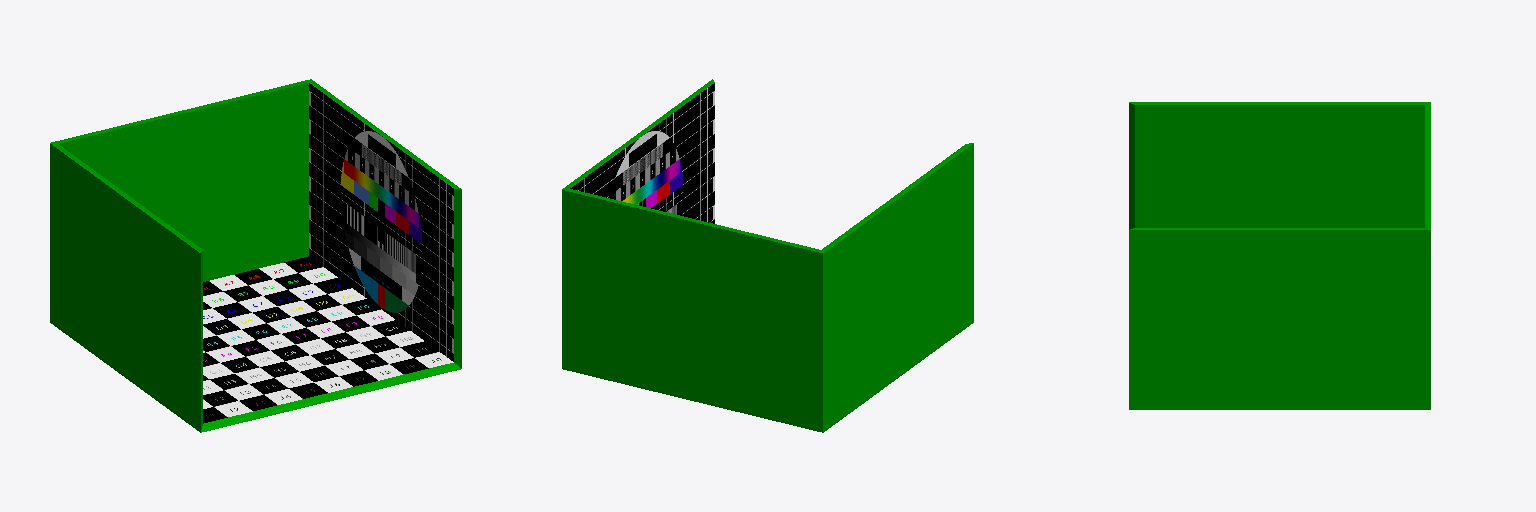
3 views of the same model, side by side, from view 1: azimuth 30°, elevation 25°; view 2: azimuth 150°, elevation 25°; view 3: azimuth 270°, elevation 25° (orthographic).
Visible parts, largest first — view 1: Cube; view 2: Cube; view 3: Cube.
Boxes of the visible parts, <box> form: Cube: <box>50,79,461,432</box>; Cube: <box>562,79,973,432</box>; Cube: <box>1129,102,1430,409</box>.
Bounding box in the file's own units: 8.44 × 5.53 × 8.44.
5 materials, 2 textured.